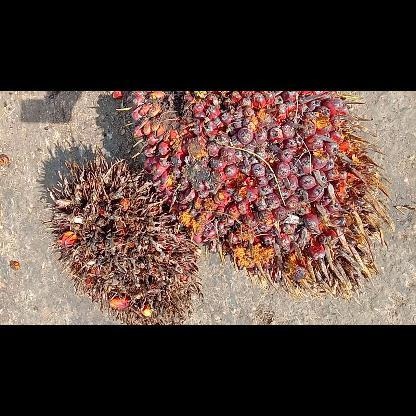TBS masak: (116, 90, 392, 298)
Terlalu masak: (42, 154, 202, 324)
